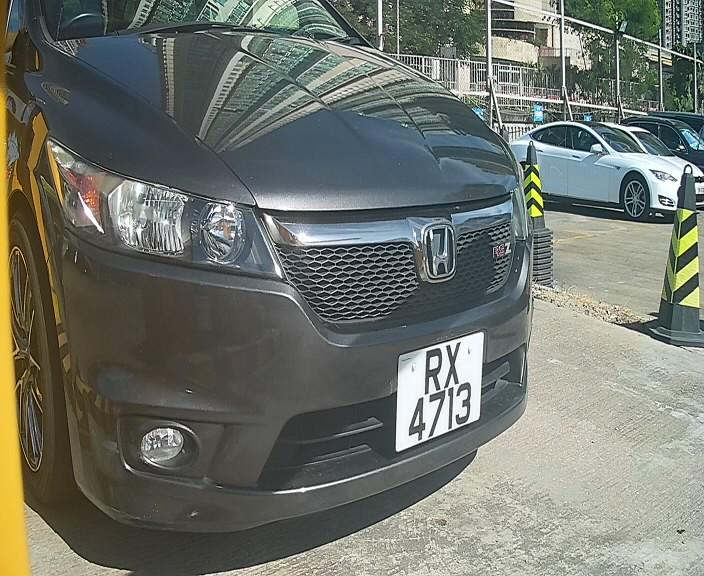Car: (29, 8, 591, 543)
License Plate: (387, 322, 488, 466)
